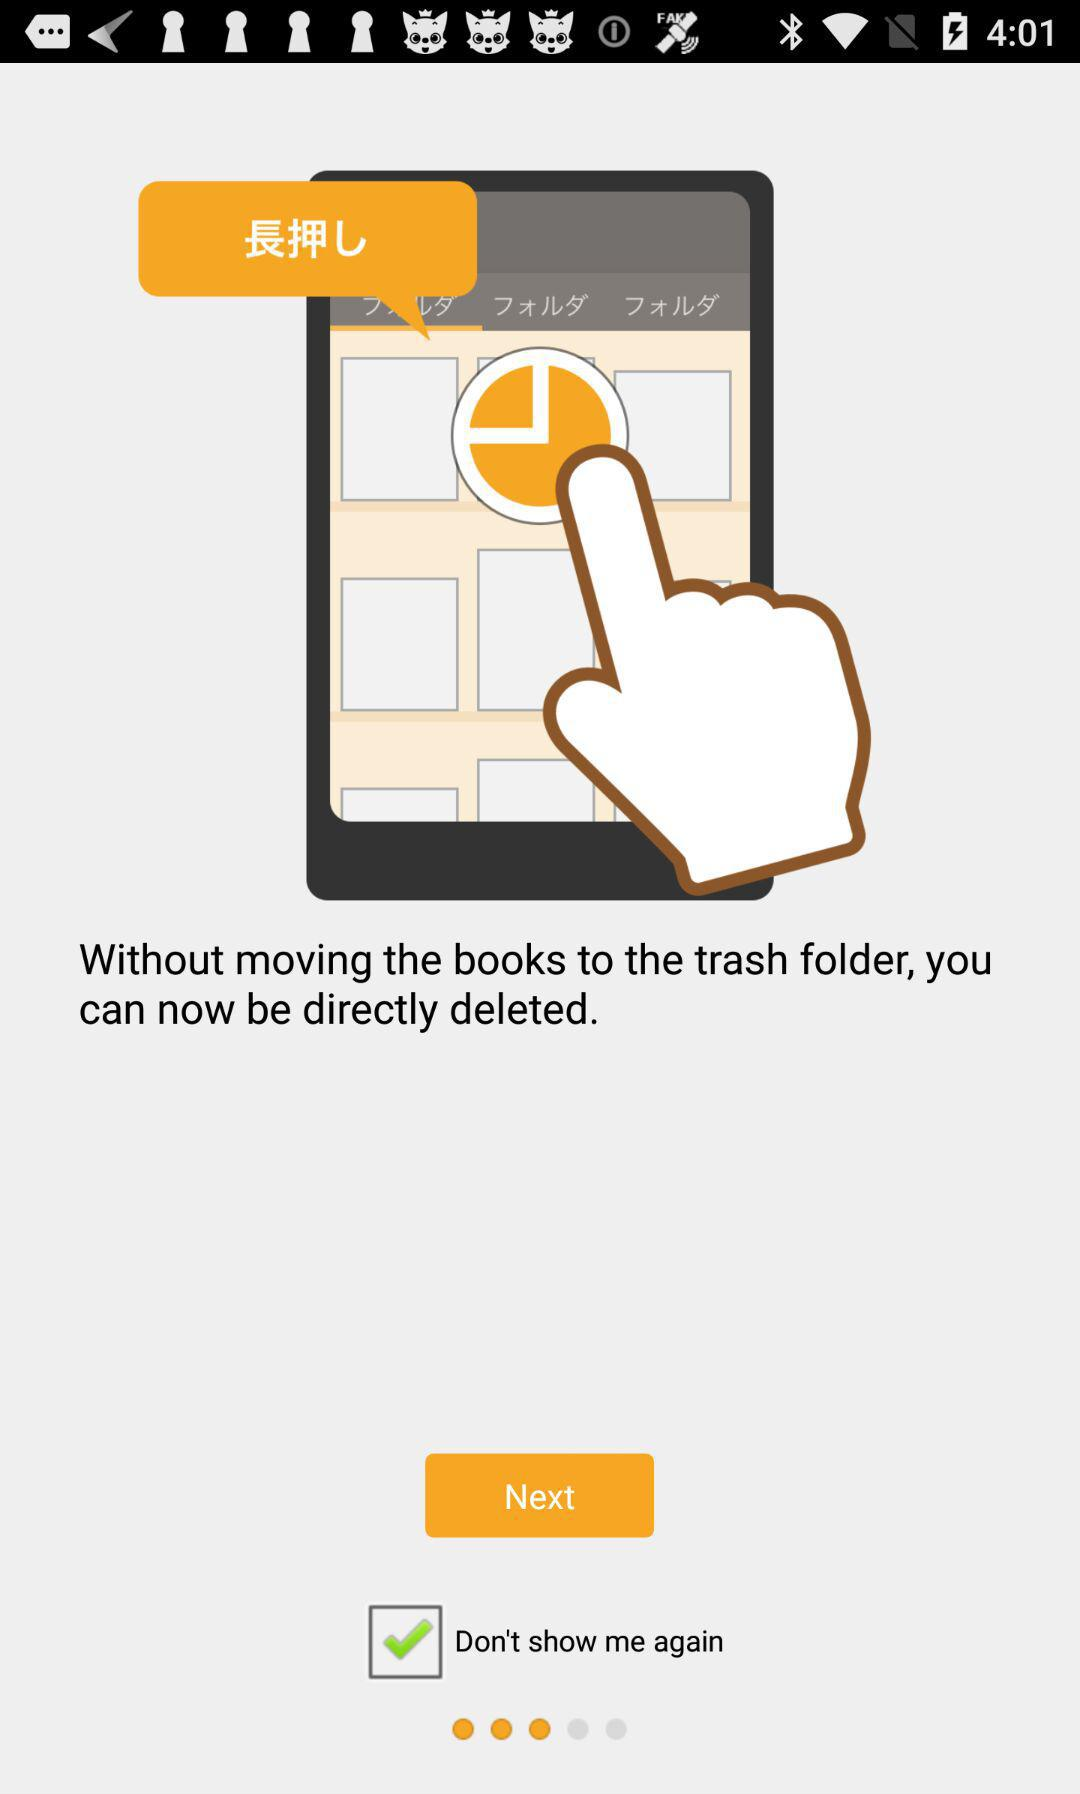CheckedTextView: (368, 1604, 724, 1680)
Image: (137, 169, 872, 903)
PageIndicator: (451, 1716, 629, 1741)
Text: (78, 941, 993, 1035), (456, 1627, 724, 1659)
TextButton: (425, 1453, 655, 1539)
UpperTaskBar: (1, 1, 1080, 64)
